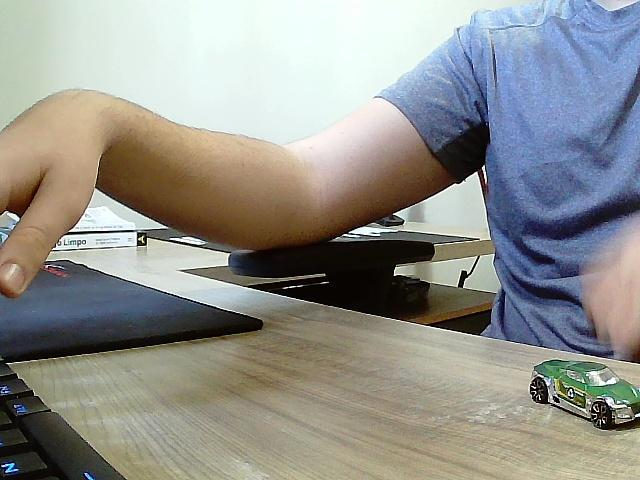Carro: (530, 359, 639, 432)
